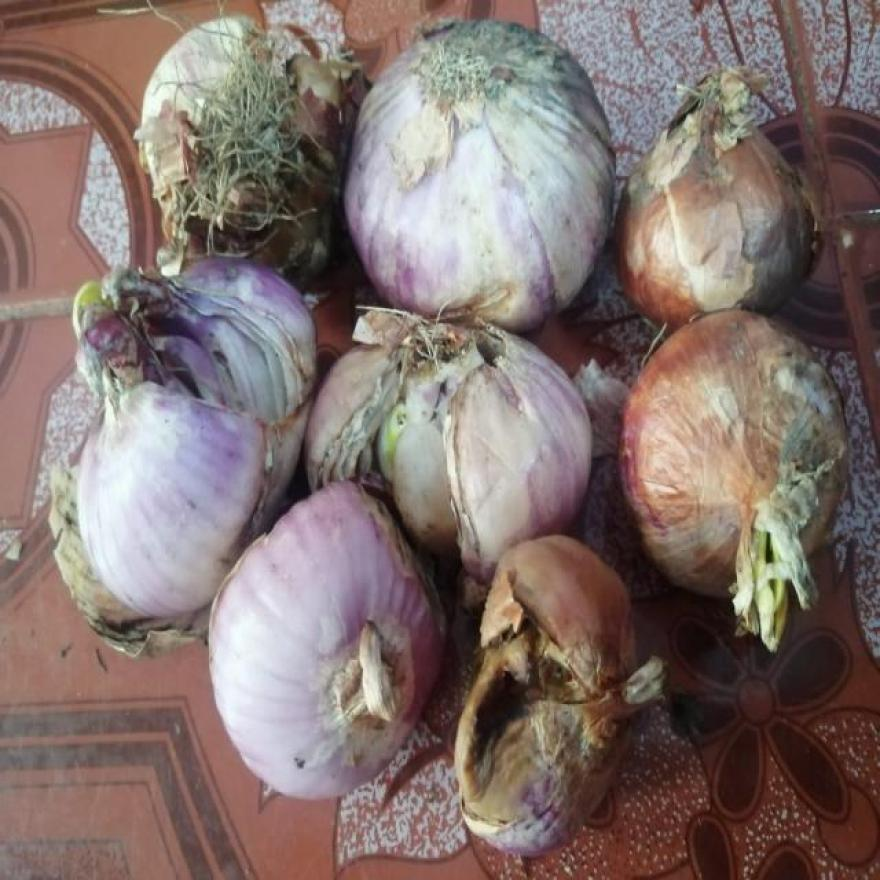Rotten: (123, 300, 292, 428), (460, 639, 582, 784), (338, 376, 462, 494), (728, 493, 818, 648), (435, 18, 576, 98), (738, 257, 809, 305)
